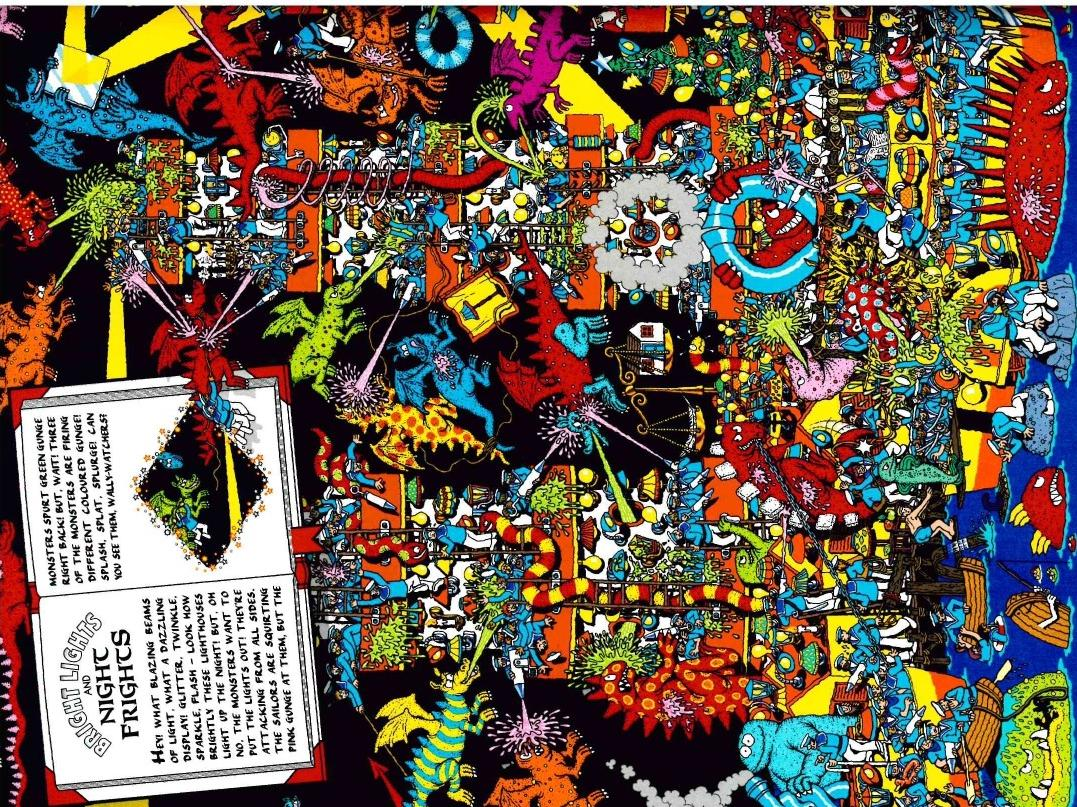waldos: (672, 279, 693, 292)
